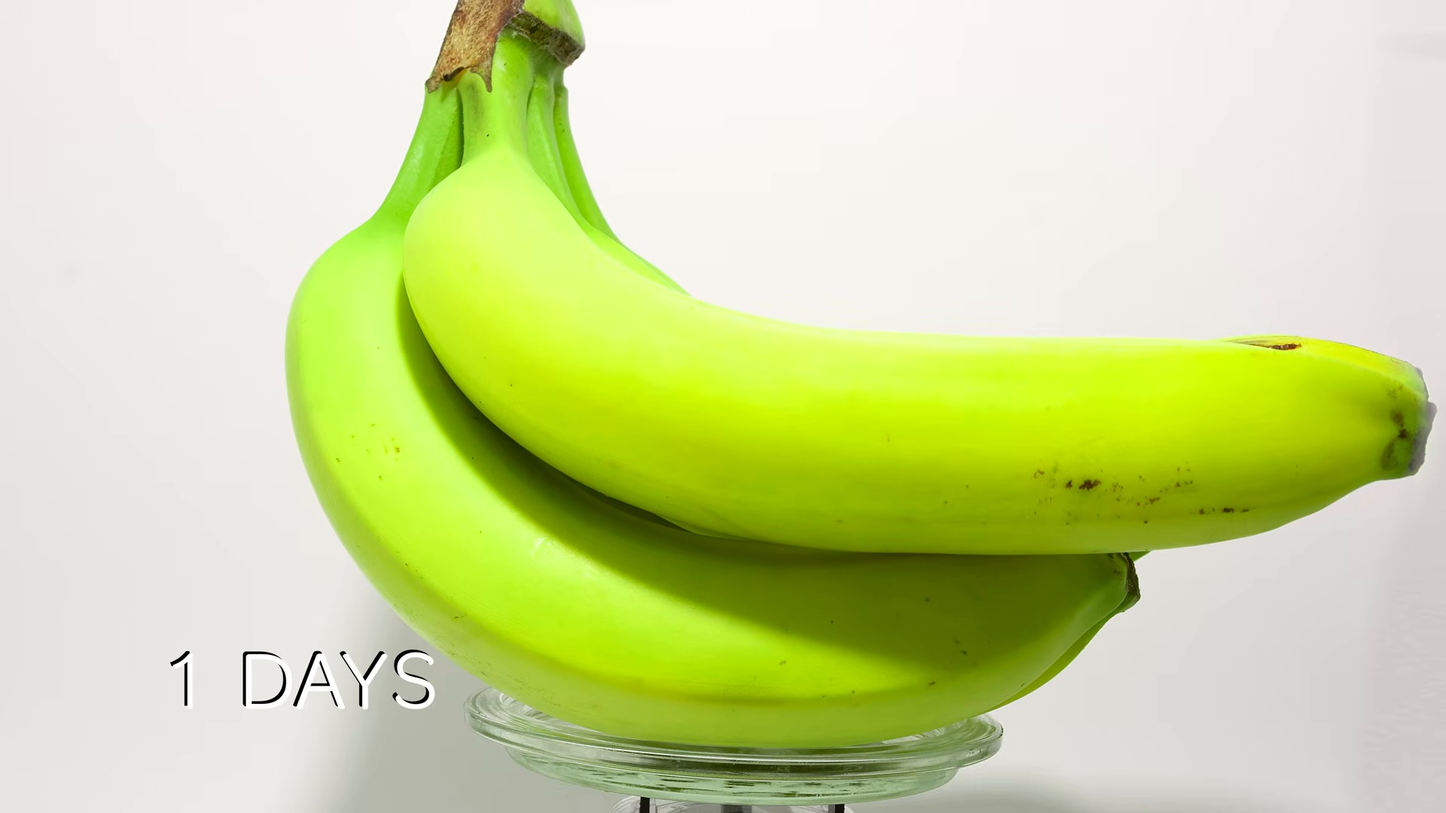banana_fresh: (282, 5, 1378, 751)
